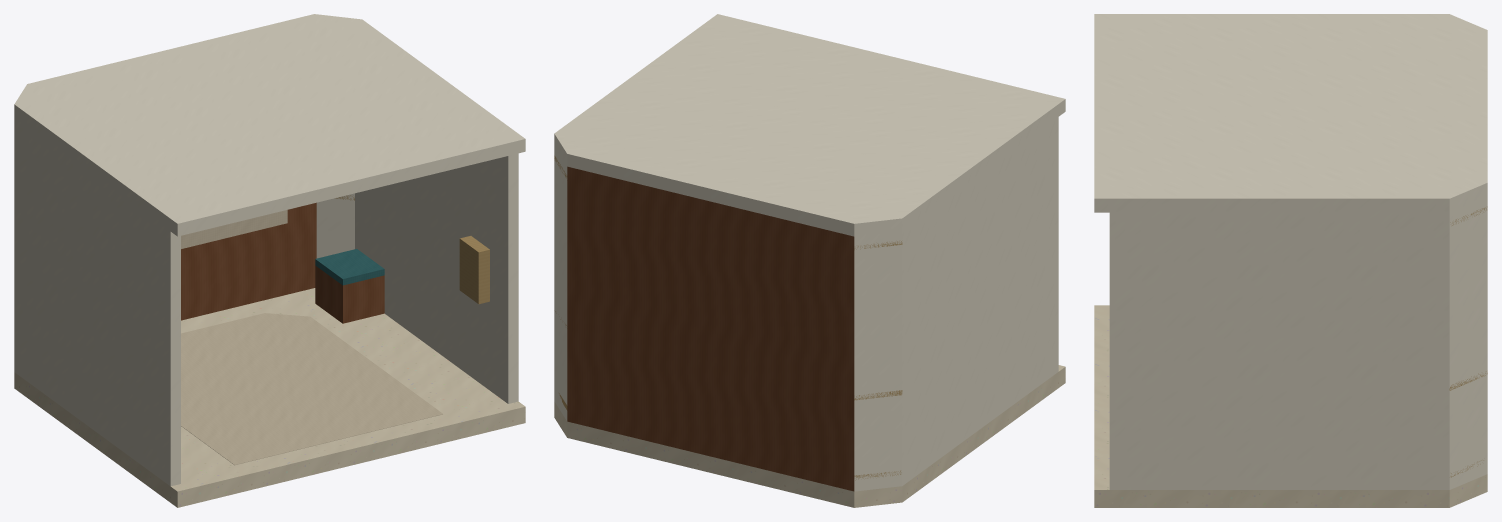
Rendered from AST-CIR-003.glb.
The picture shows the model from 3 angles, left to right: view 1: azimuth 30°, elevation 25°; view 2: azimuth 150°, elevation 25°; view 3: azimuth 270°, elevation 25°; orthographic projection. The views are drawn at different scales.
Visible parts, largest first — view 1: CAB_ivory_enamel, CAB_oatmeal_weave, CAB_warm_stone, CAB_warm_walnut, CAB_champagne_metal, CAB_teal_weave; view 2: CAB_ivory_enamel, CAB_warm_walnut, CAB_warm_stone, CAB_champagne_metal; view 3: CAB_ivory_enamel, CAB_warm_stone.
Part boxes in pixels (box(x1,y1,x2,y2)): CAB_ivory_enamel: box(14, 14, 525, 486); CAB_oatmeal_weave: box(181, 210, 442, 465); CAB_warm_stone: box(14, 288, 525, 507); CAB_warm_walnut: box(181, 202, 384, 323); CAB_champagne_metal: box(335, 195, 489, 304); CAB_teal_weave: box(315, 249, 384, 285); CAB_ivory_enamel: box(554, 14, 1065, 491); CAB_warm_walnut: box(567, 166, 854, 491); CAB_warm_stone: box(554, 365, 1065, 507); CAB_champagne_metal: box(554, 155, 902, 480); CAB_ivory_enamel: box(1094, 14, 1487, 489); CAB_warm_stone: box(1094, 305, 1487, 507).
Size of the model in its own units: 4 by 3.12 by 3.6.
7 materials, 6 textured.
